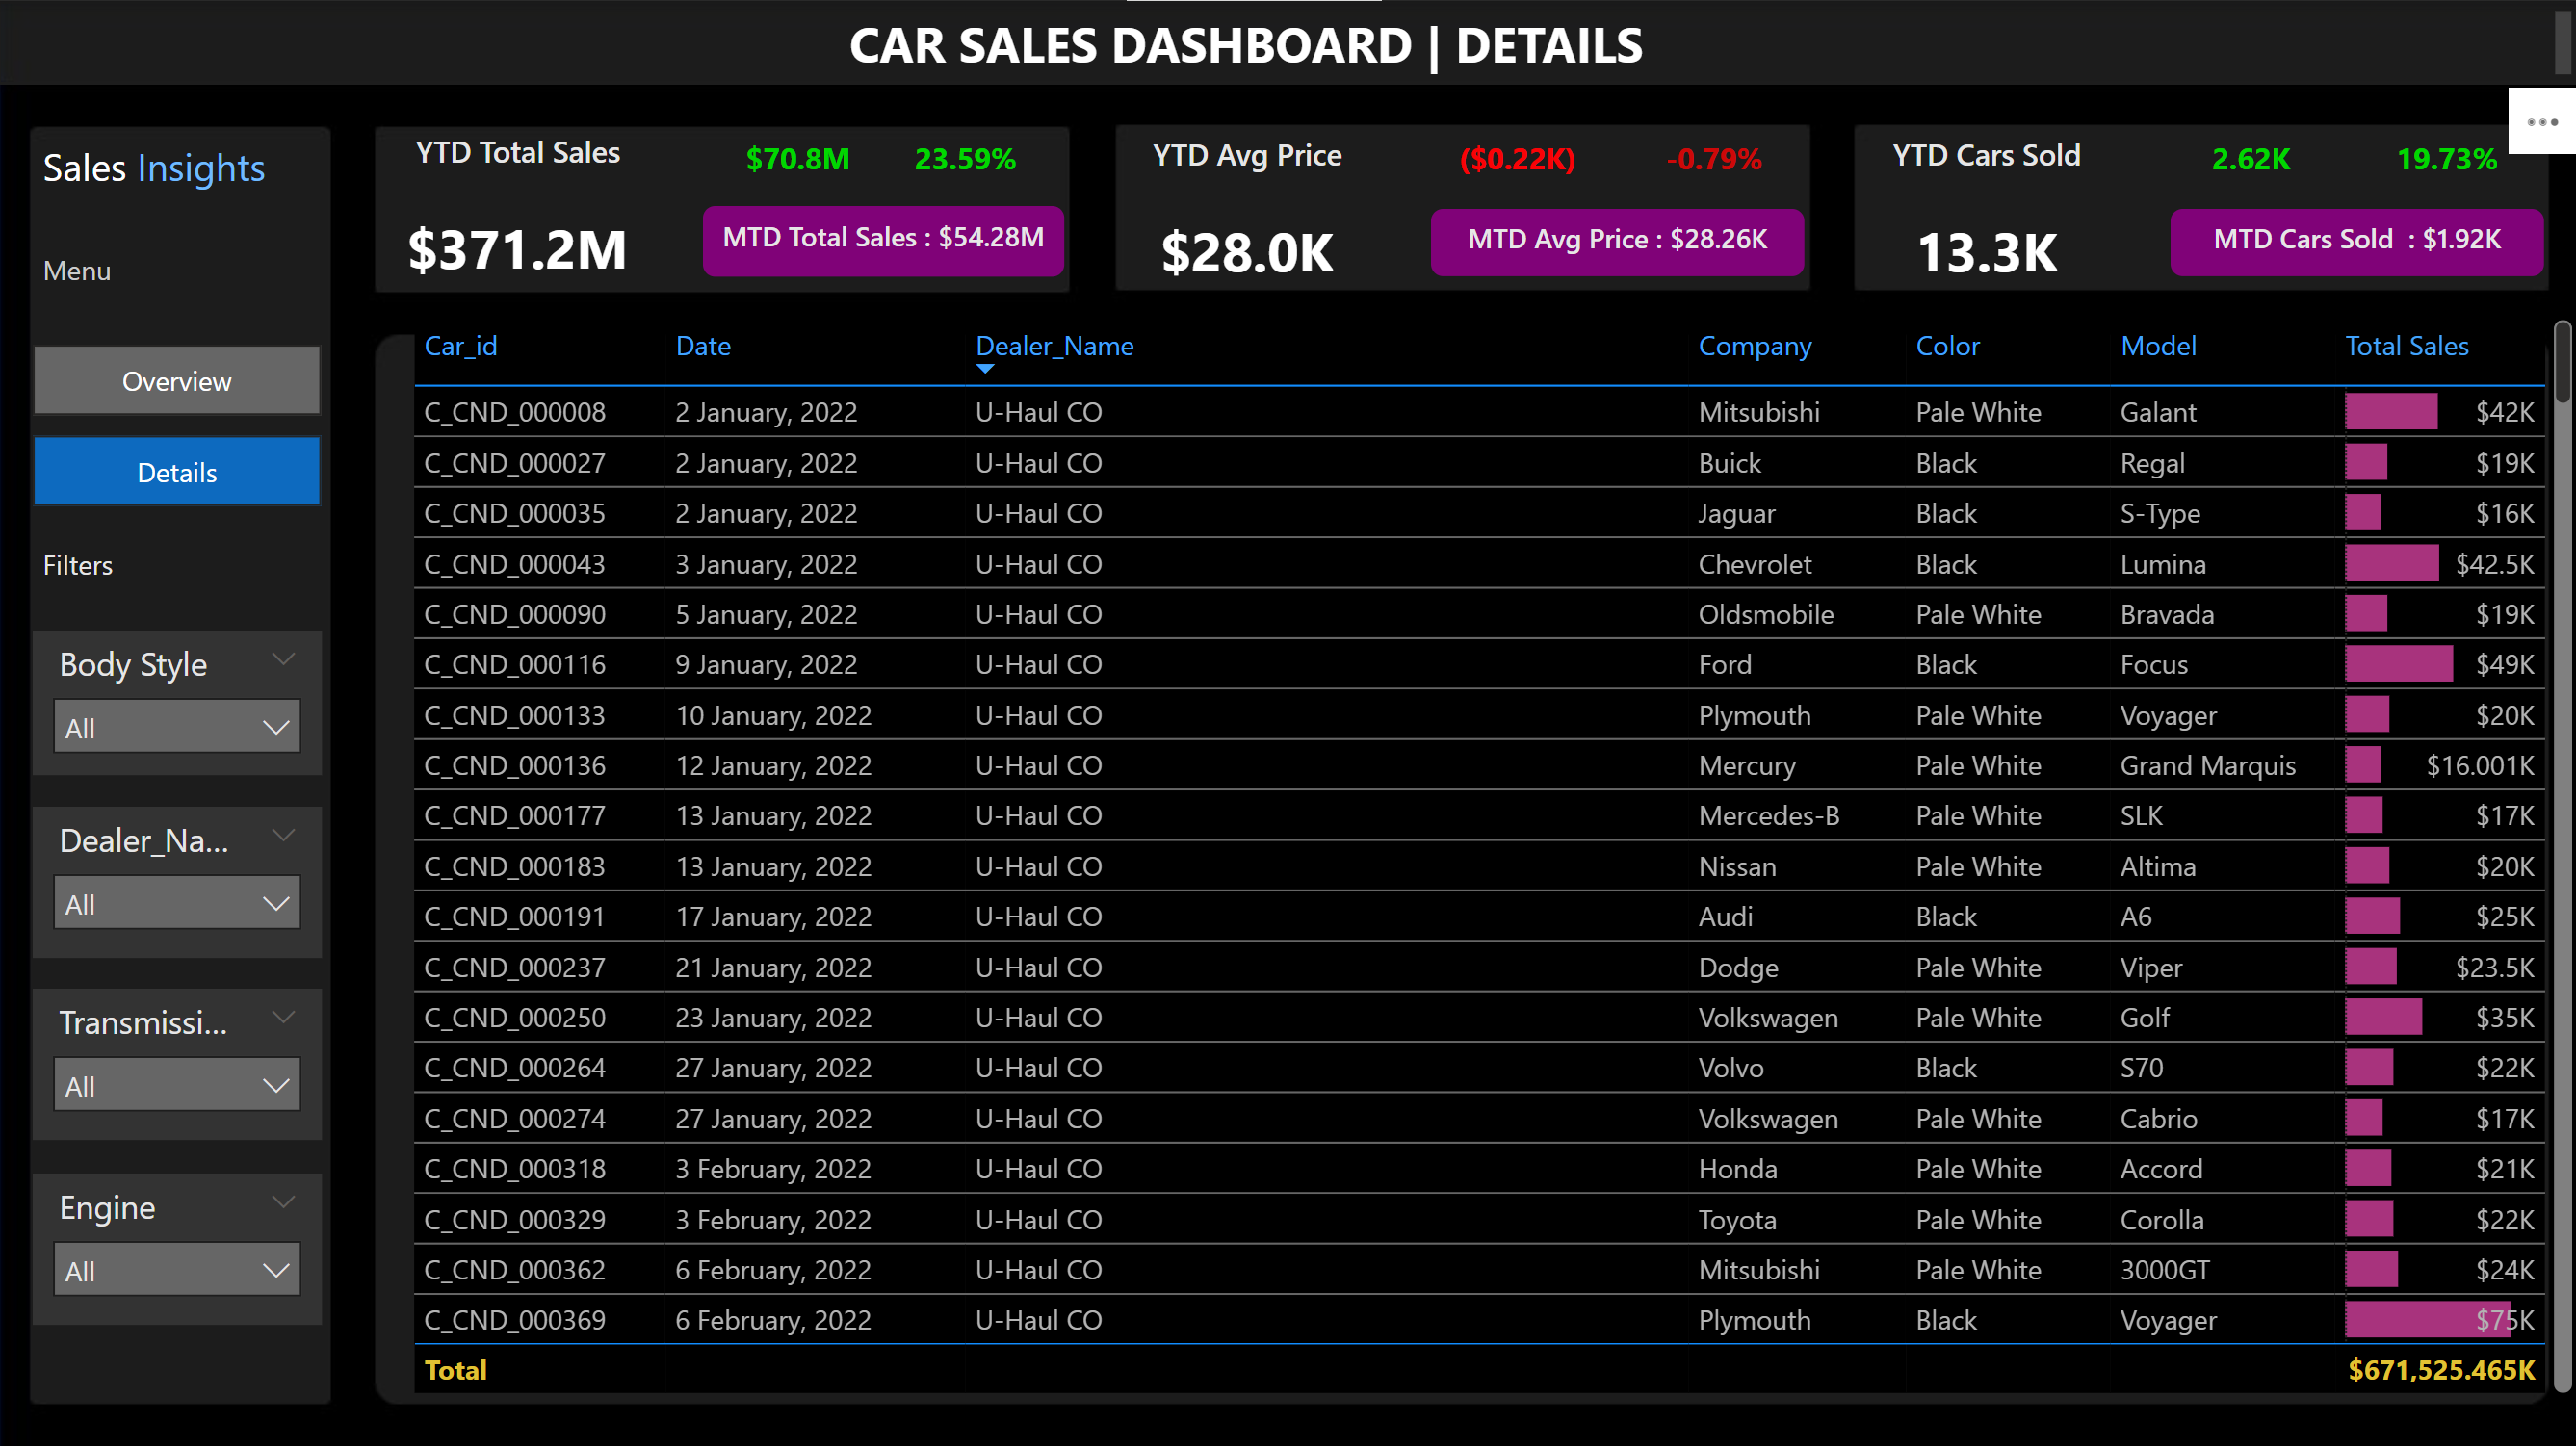

What the dashboard file says about the page in this screenshot:
{"tool":"powerbi","page":{"name":"Details","canvas":[1280,720],"ordinal":1},"visuals":[{"type":"cardVisual","title":"YTD Total Sales","fields":{"Data":["car_data.YTD Total Sales"]},"box":[182,64.5,151.7,89.1],"z":0},{"type":"cardVisual","fields":{"Data":["car_data.Sales Difference"]},"box":[315.5,42.5,163.8,60.7],"z":1000},{"type":"cardVisual","fields":{"Data":["car_data.YoY Sales Growth"]},"box":[397.3,42.5,163.8,60.7],"z":2000},{"type":"card","fields":{"Values":["car_data.MTD KPI"]},"box":[348.8,101.6,179,34.9],"z":3000},{"type":"cardVisual","title":"YTD Avg Price","fields":{"Data":["car_data.YTD Avg Price"]},"box":[527.8,65.2,182,75.8],"z":4000},{"type":"cardVisual","fields":{"Data":["car_data.Avg Price Diff"]},"box":[671.8,42.5,163.8,60.7],"z":5000},{"type":"cardVisual","fields":{"Data":["car_data.YoY Avg Price Growth"]},"box":[768.9,42.5,163.8,60.7],"z":6000},{"type":"card","fields":{"Values":["car_data.MTD Avg Price KPI"]},"box":[709.8,103.1,185,33.4],"z":7000},{"type":"cardVisual","title":"YTD Cars Sold","fields":{"Data":["car_data.YTD Cars Sold"]},"box":[894.8,65.2,182,75.8],"z":8000},{"type":"cardVisual","fields":{"Data":["car_data.Cars Sold Diff"]},"box":[1034.3,42.5,163.8,60.7],"z":9000},{"type":"cardVisual","fields":{"Data":["car_data.YoY Cars Sold Growth"]},"box":[1148.1,42.5,131.9,60.7],"z":10000},{"type":"card","fields":{"Values":["car_data.MTD Cars Sold KPI"]},"box":[1076.8,103.1,185,33.4],"z":11000},{"type":"textbox","box":[0,0,1280,41.8],"z":12000},{"type":"slicer","fields":{"Values":["car_data.Dealer_Name"]},"box":[16.7,400,143.3,75],"z":13000},{"type":"slicer","fields":{"Values":["car_data.Body Style"]},"box":[16.7,311.7,143.3,71.7],"z":14000},{"type":"slicer","fields":{"Values":["car_data.Transmission"]},"box":[16.7,490,143.3,75],"z":15000},{"type":"slicer","fields":{"Values":["car_data.Engine"]},"box":[16.7,581.7,143.3,75],"z":16000},{"type":"textbox","box":[16.7,265,165,31.7],"z":17000},{"type":"tableEx","fields":{"Values":["car_data.Car_id","car_data.Date","car_data.Dealer_Name","car_data.Company","car_data.Color","car_data.Model","Sum(car_data.Price ($))"]},"box":[200,153.3,1080,541.7],"z":18000},{"type":"textbox","box":[16.7,65,165,43.3],"z":19000},{"type":"textbox","box":[16.7,118.3,71.7,35],"z":19001},{"type":"pageNavigator","box":[16.7,170,143.3,81.7],"z":19002}]}

Visuals, with their boxes on the page's 1280x720 design canvas (x1, y1, x2, y2). These are canvas units, not pixel positions in the 2576x1446 screenshot, which may show the page scaled, cropped or inside an application window:
"YTD Total Sales" cardVisual: (182,64,334,154)
cardVisual - car_data.Sales Difference: (316,42,479,103)
cardVisual - car_data.YoY Sales Growth: (397,42,561,103)
card - car_data.MTD KPI: (349,102,528,136)
"YTD Avg Price" cardVisual: (528,65,710,141)
cardVisual - car_data.Avg Price Diff: (672,42,836,103)
cardVisual - car_data.YoY Avg Price Growth: (769,42,933,103)
card - car_data.MTD Avg Price KPI: (710,103,895,136)
"YTD Cars Sold" cardVisual: (895,65,1077,141)
cardVisual - car_data.Cars Sold Diff: (1034,42,1198,103)
cardVisual - car_data.YoY Cars Sold Growth: (1148,42,1280,103)
card - car_data.MTD Cars Sold KPI: (1077,103,1262,136)
textbox: (0,0,1280,42)
slicer - car_data.Dealer_Name: (17,400,160,475)
slicer - car_data.Body Style: (17,312,160,383)
slicer - car_data.Transmission: (17,490,160,565)
slicer - car_data.Engine: (17,582,160,657)
textbox: (17,265,182,297)
tableEx - car_data.Car_id x car_data.Date: (200,153,1280,695)
textbox: (17,65,182,108)
textbox: (17,118,88,153)
pageNavigator: (17,170,160,252)
